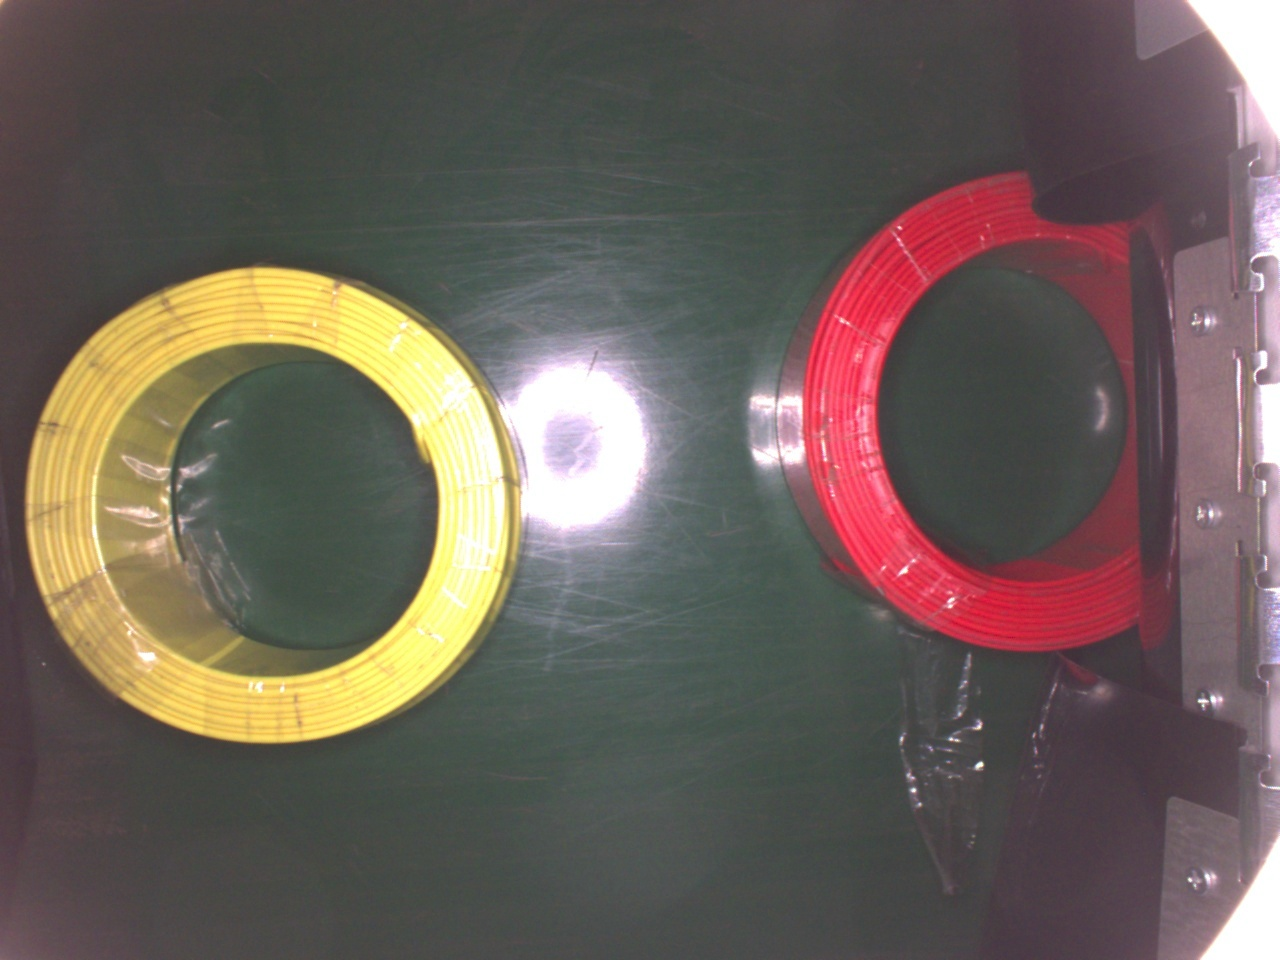red: (775, 170, 1139, 651)
yellow: (21, 261, 526, 746)
